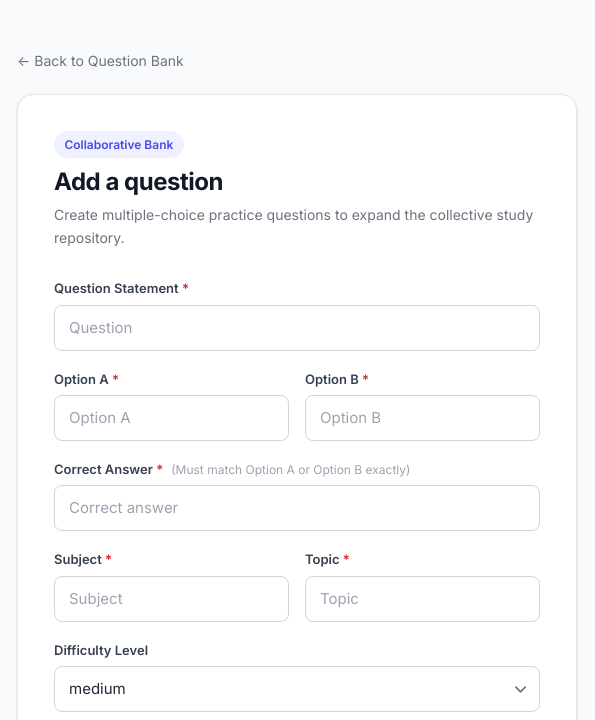
AddQuestion › submits a valid question with the bearer token
Type "What is 2 + 2?" into the field with placeholder "Question".
click(297, 328); type("What is 2 + 2?")  # box [54,304,540,350]
Type "4" into the field with placeholder "Option A".
click(172, 418); type("4")  # box [54,395,289,441]
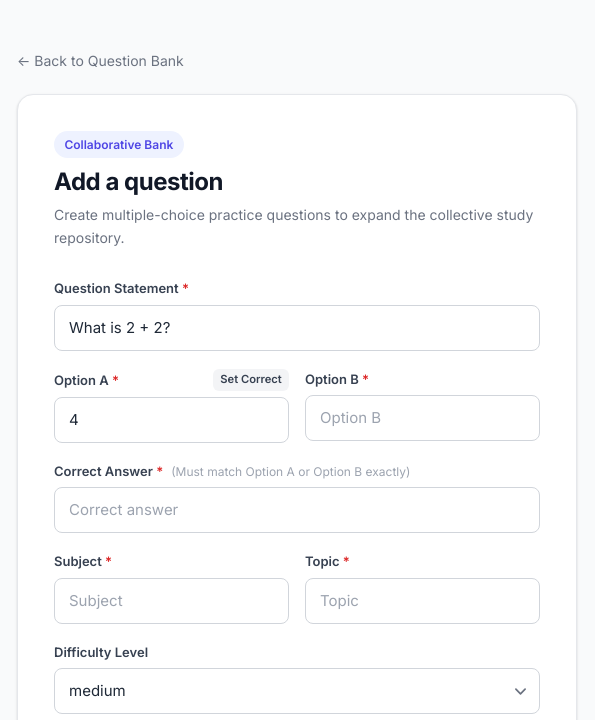
Type "5" into the field with placeholder "Option B".
click(422, 418); type("5")  # box [305,395,540,441]
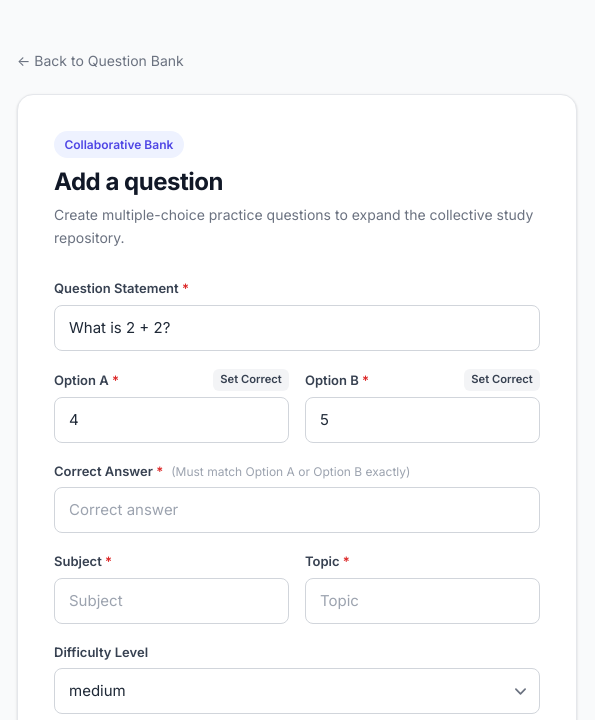
Type "4" into the field with placeholder "Correct Answer".
click(297, 510); type("4")  # box [54,487,540,533]
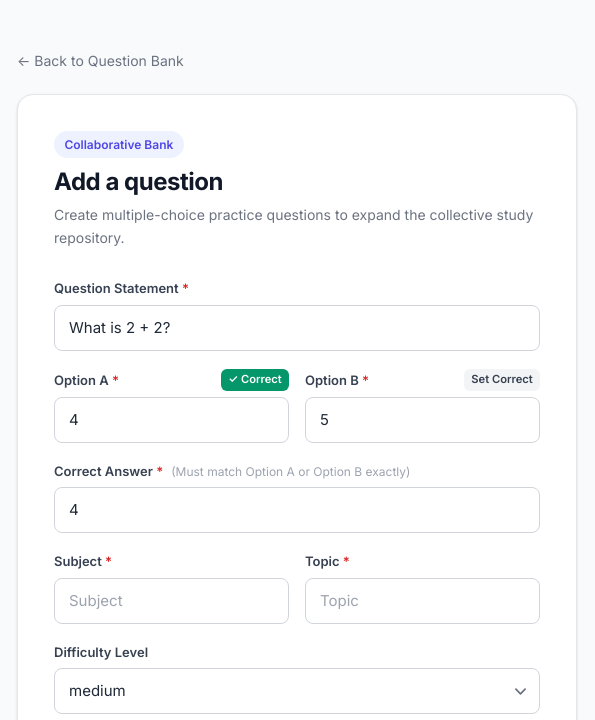
Type "Maths" into the field with placeholder "Subject".
click(172, 601); type("Maths")  # box [54,578,289,624]
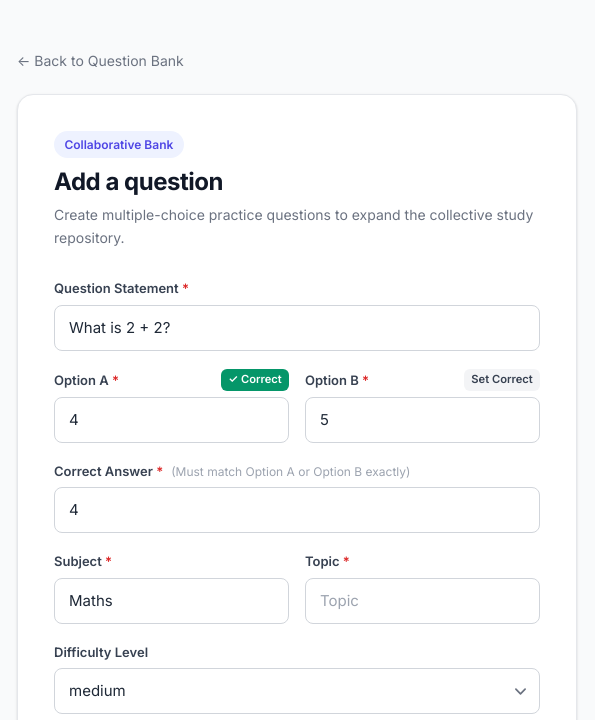
Type "Arithmetic" into the field with placeholder "Topic".
click(422, 601); type("Arithmetic")  # box [305,578,540,624]
(page scrolled)
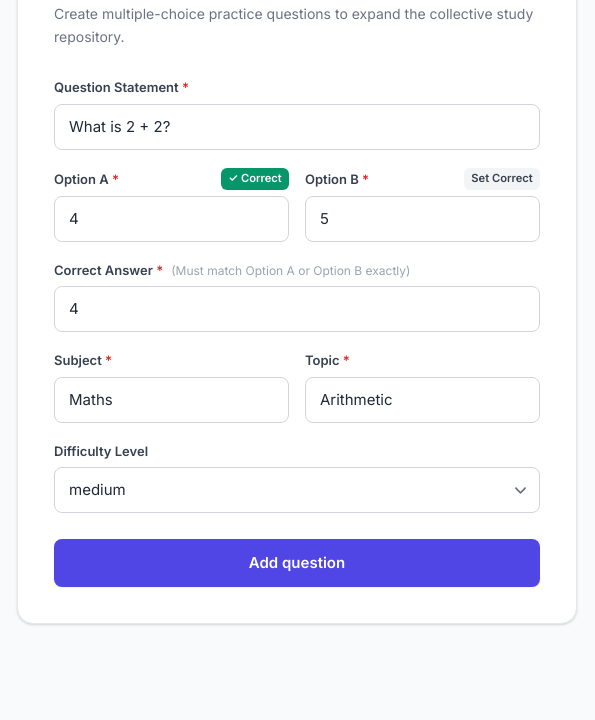
Click the button "Add question".
click(297, 563)  # box [54,539,540,587]
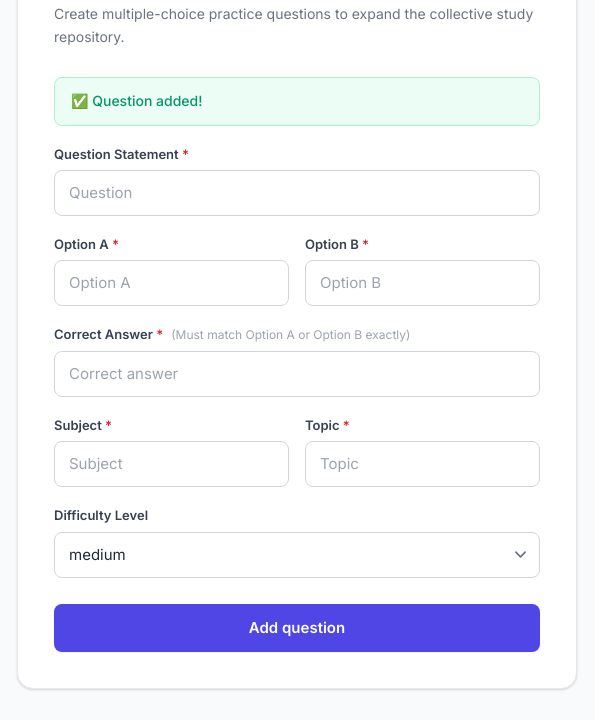
Expected: the message shows "Question added", [71,92,202,109]
